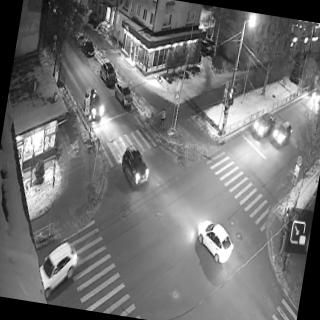small-vehicle: (34, 232, 78, 304), (190, 211, 234, 269), (118, 142, 150, 192), (250, 104, 276, 142), (271, 112, 296, 148), (113, 76, 135, 108), (97, 59, 116, 89), (80, 33, 98, 61)
